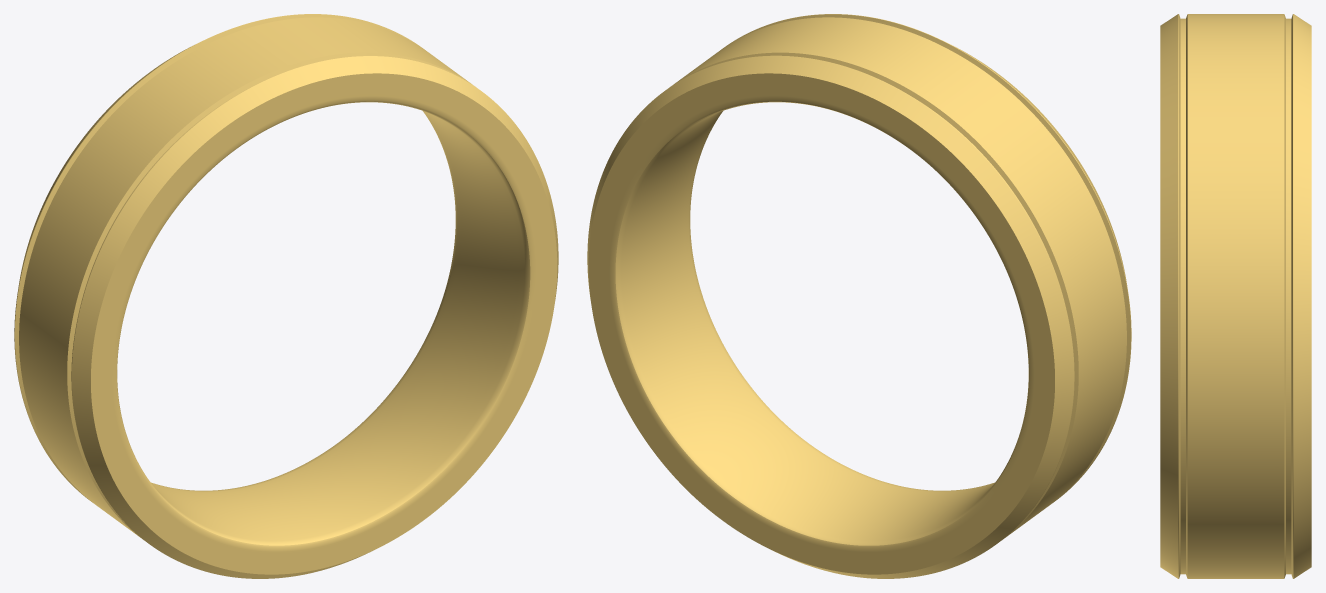
The model's file is WKygnew_blender.glb.
3 views of the same model, side by side, from view 1: azimuth 30°, elevation 25°; view 2: azimuth 150°, elevation 25°; view 3: azimuth 270°, elevation 25° (orthographic).
Parts seen in each view (by area): view 1: WK Men's YG new; view 2: WK Men's YG new; view 3: WK Men's YG new.
Part boxes in pixels (x1,y1,x2,y2): WK Men's YG new: [14, 14, 558, 578]; WK Men's YG new: [587, 14, 1131, 578]; WK Men's YG new: [1160, 14, 1311, 578].
Size of the model in its own units: 22.79 by 22.79 by 6.1.
